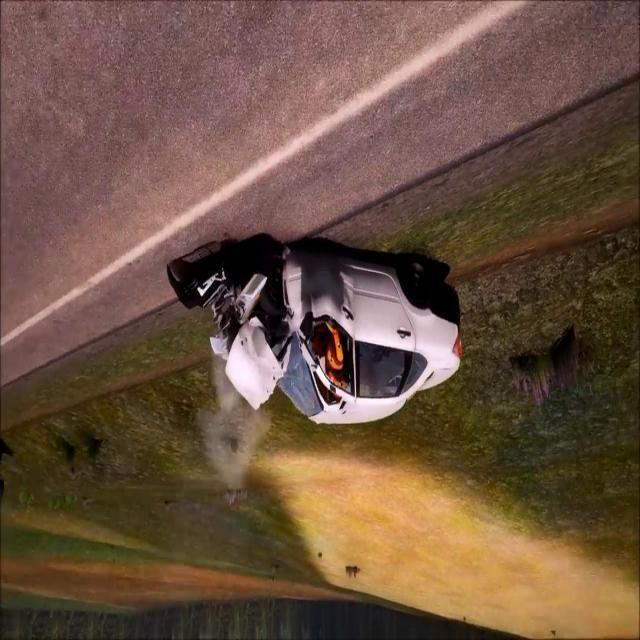severe: (166, 228, 466, 436)
